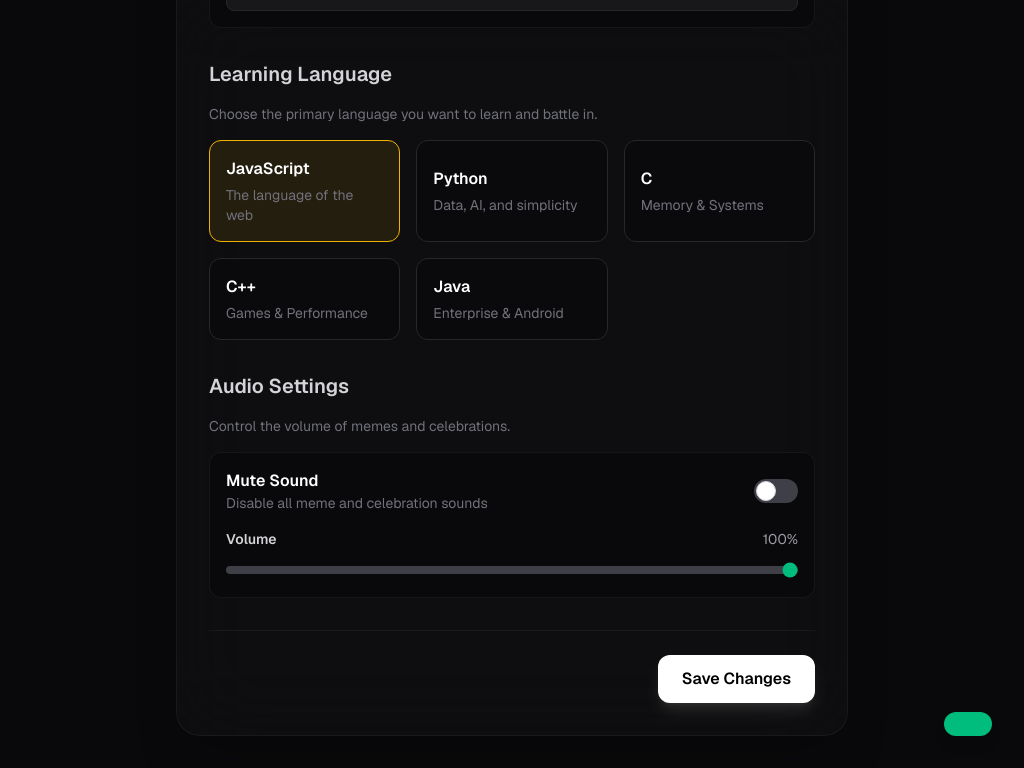
Settings Page — Supabase Integration › shows success toast after confirmed write
(page scrolled)
Click the button "Save Changes".
click(736, 679)  # box [658,655,815,703]
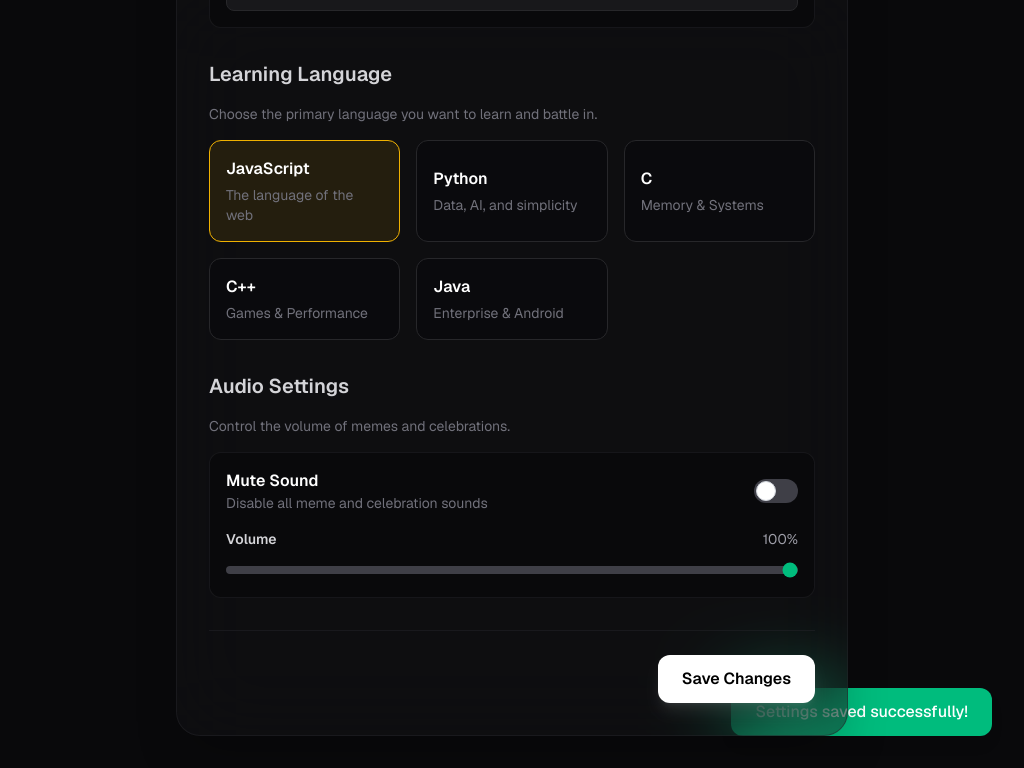
Result: the text "Settings saved successfully!" is shown at [731,688,992,736]
